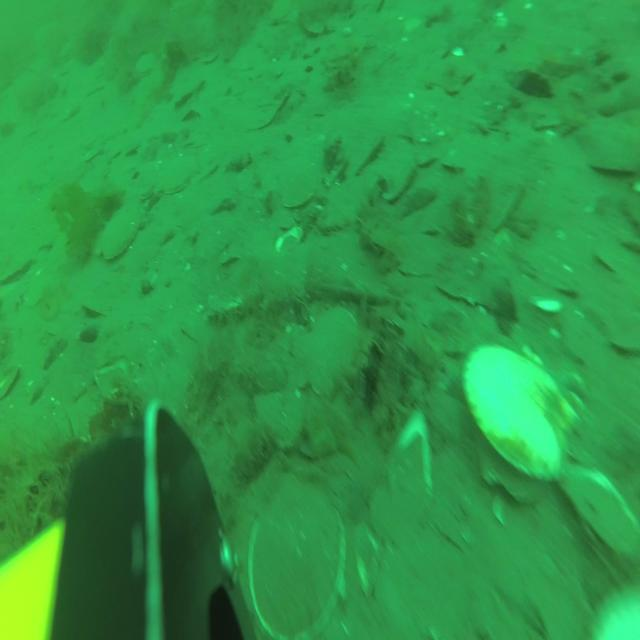scallop: (463, 336, 581, 507), (554, 464, 639, 577), (299, 301, 357, 399), (580, 106, 640, 184), (279, 140, 327, 205), (98, 205, 148, 260), (376, 145, 417, 204), (343, 122, 382, 178), (154, 159, 200, 201), (172, 69, 206, 106), (442, 146, 466, 178), (136, 50, 159, 82), (417, 145, 436, 172), (135, 185, 150, 202)
